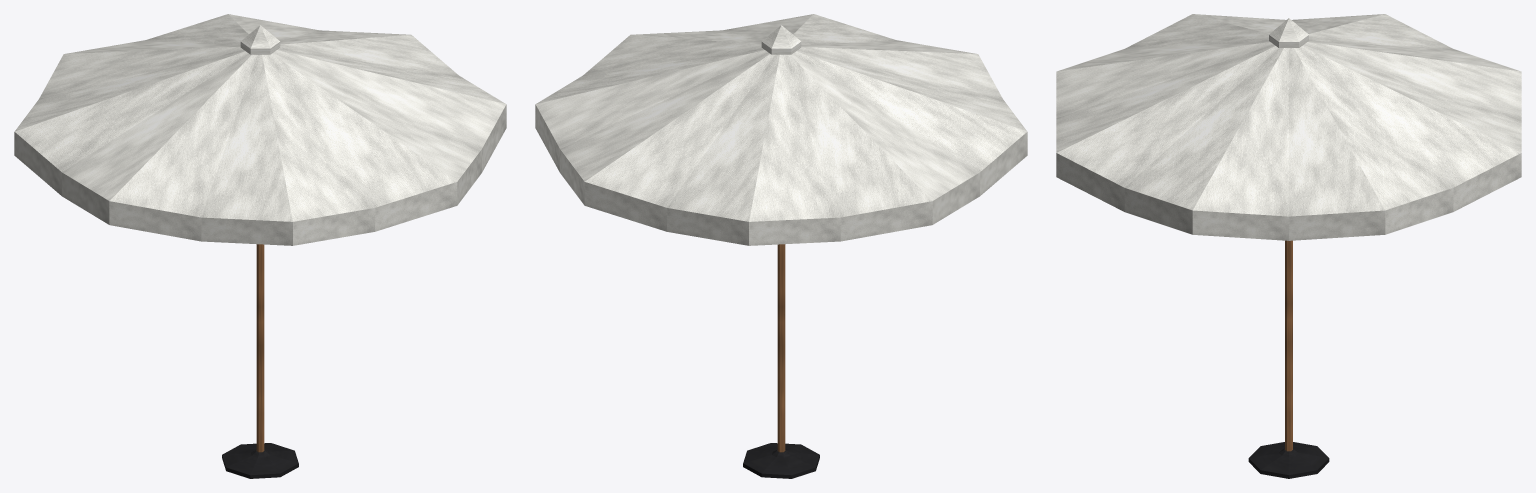
Rendered from SM_Molo_OmbrelloneLegno_LOD1.fbx.
3 renders of one model, left to right at view 1: azimuth 30°, elevation 25°; view 2: azimuth 150°, elevation 25°; view 3: azimuth 270°, elevation 25°, orthographic.
Visible parts, largest first — view 1: SM_Molo_OmbrelloneLegno_LOD1; view 2: SM_Molo_OmbrelloneLegno_LOD1; view 3: SM_Molo_OmbrelloneLegno_LOD1.
Part boxes in pixels (bbox=[...]): SM_Molo_OmbrelloneLegno_LOD1: bbox=[14, 14, 506, 478]; SM_Molo_OmbrelloneLegno_LOD1: bbox=[535, 14, 1027, 478]; SM_Molo_OmbrelloneLegno_LOD1: bbox=[1056, 14, 1521, 478].
Size of the model in its own units: 277 by 277 by 292.
Materials: 2 (2 with a texture image).
